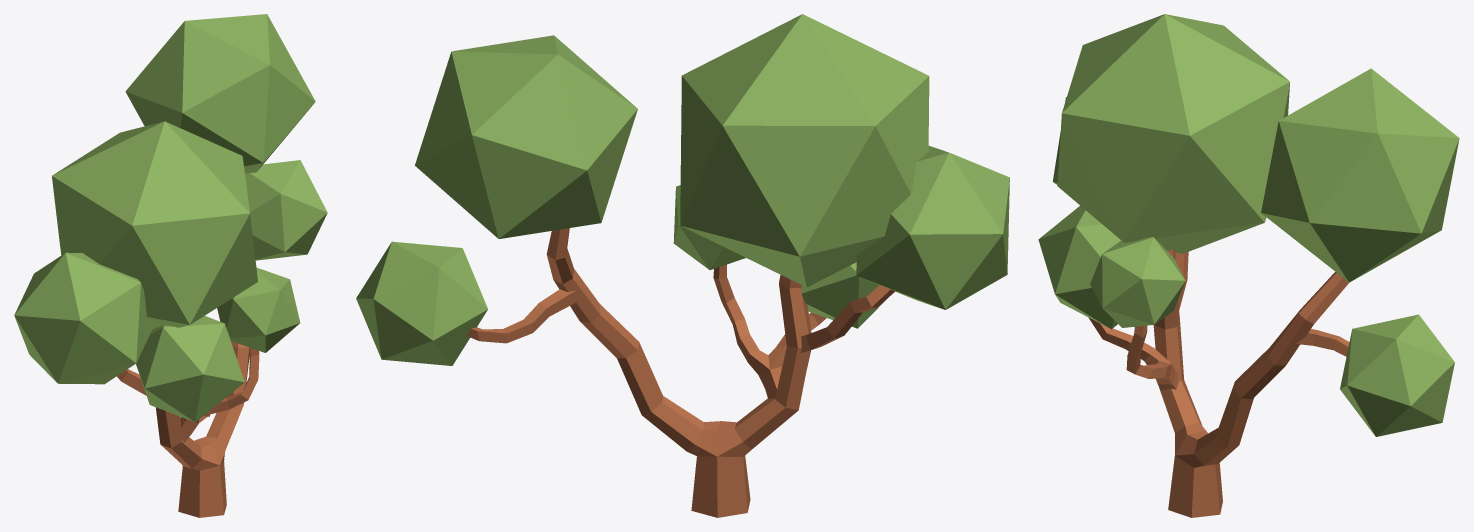
Rendered from low_poly_tree.gltf.
The picture shows the model from 3 angles, left to right: view 1: azimuth 30°, elevation 25°; view 2: azimuth 150°, elevation 25°; view 3: azimuth 270°, elevation 25°; orthographic projection. The views are drawn at different scales.
Visible parts, largest first — view 1: Leaves, Bark; view 2: Leaves, Bark; view 3: Leaves, Bark.
Part boxes in pixels (x1,y1,x2,y2): Leaves: (14,14,327,422); Bark: (117,341,259,517); Leaves: (356,14,1009,365); Bark: (467,228,894,517); Leaves: (1038,14,1459,436); Bark: (1088,249,1349,517).
Size of the model in its own units: 27.98 by 26.54 by 21.54.
